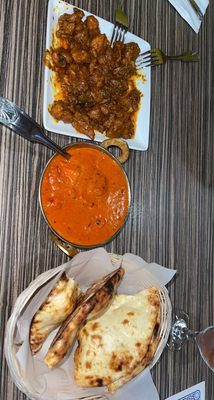salad: (0, 97, 130, 165), (0, 96, 72, 159)
sushi: (38, 143, 131, 259)
